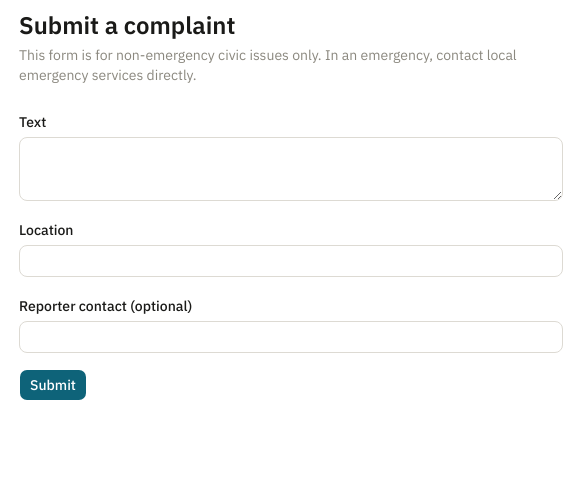
Scenario: Submit view › renders the 400 field-level errors as a generic list
Type "short" into the text box labelled "Text" at coordinates (291, 169), box [19,137,563,201]
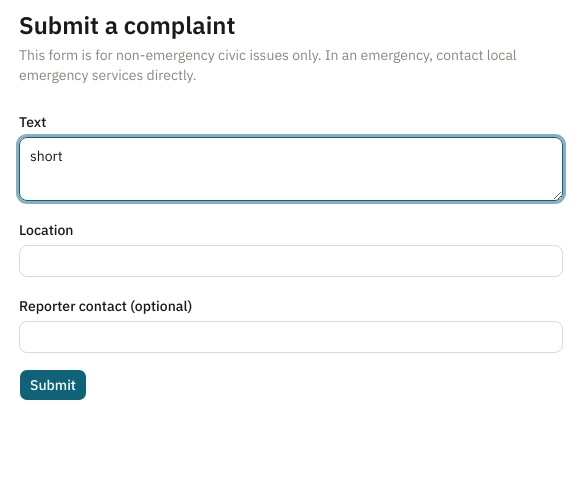
Type "loc" into the field labelled "Location" at coordinates (291, 261), box [19,245,563,277]
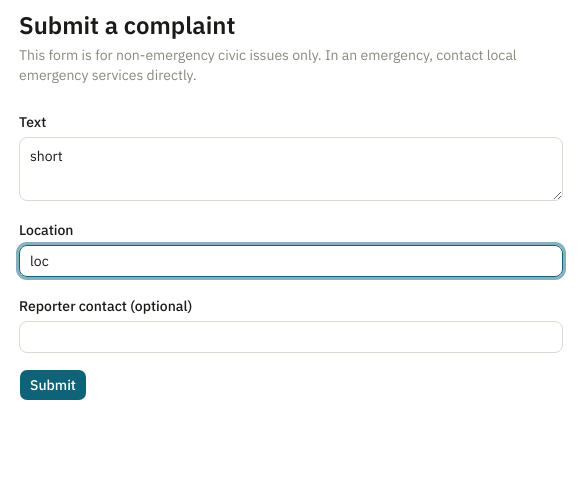
Click the button "Submit" at coordinates (53, 385), box [19,369,87,401]
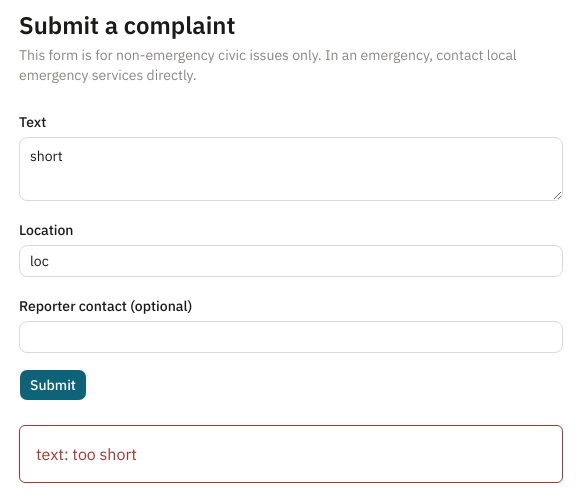
Expected: the list item "text: too short" is shown, [36,444,137,464]
